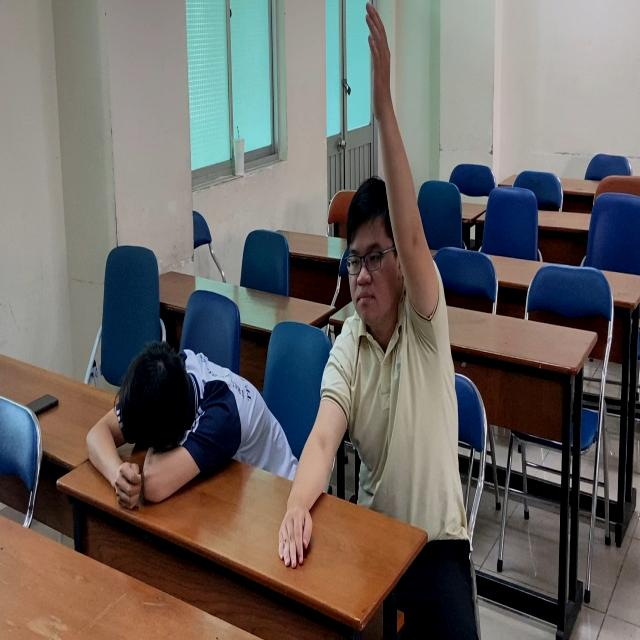raise_hand: (324, 1, 459, 514)
sleep: (82, 331, 287, 517)
